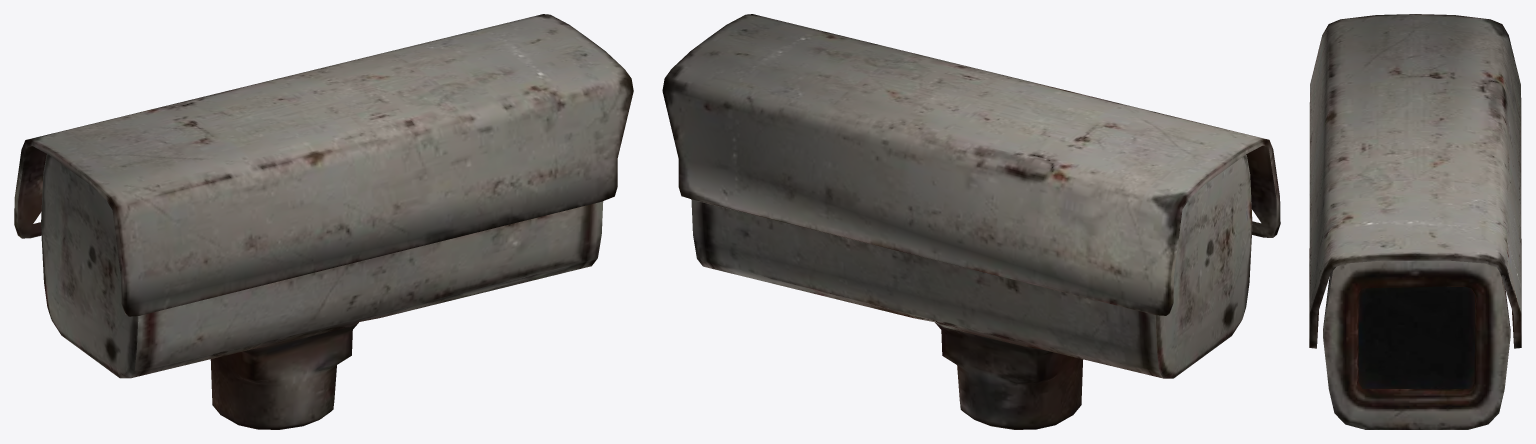
File: cctv_camera.worldmodel.glb
3 views of the same model, side by side, from view 1: azimuth 30°, elevation 25°; view 2: azimuth 150°, elevation 25°; view 3: azimuth 270°, elevation 25° (orthographic). The views are drawn at different scales.
Visible parts, largest first — view 1: cctv_LOD0; view 2: cctv_LOD0; view 3: cctv_LOD0.
Boxes of the visible parts, x1,y1,x2,y2 form: cctv_LOD0: (14,14,633,429); cctv_LOD0: (662,14,1280,429); cctv_LOD0: (1309,14,1521,429).
Bounding box in the file's own units: 0.303 × 0.163 × 0.1125.
Materials: 1 (1 with a texture image).
